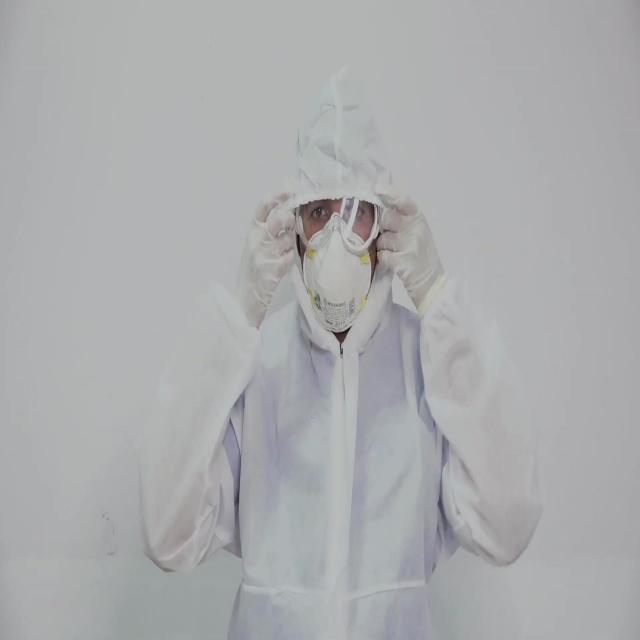Gloves: (234, 188, 296, 331), (374, 183, 444, 309)
Goggles: (294, 197, 380, 258)
